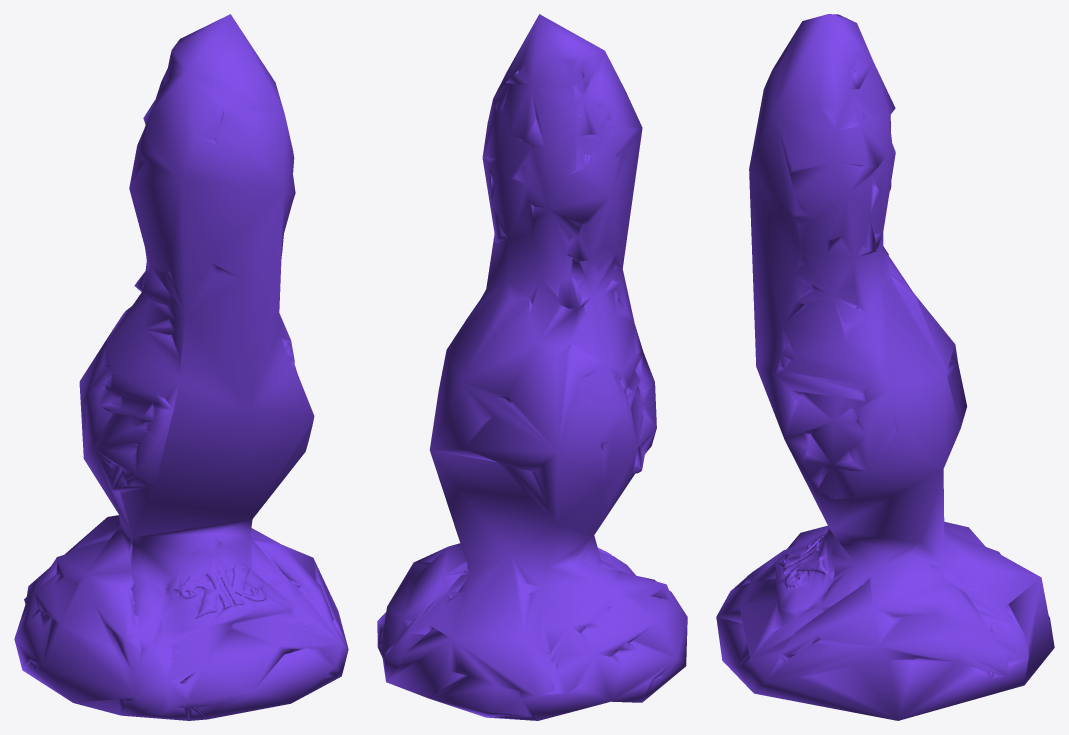
File: small-flat-ar.glb
The picture shows the model from 3 angles, left to right: view 1: azimuth 30°, elevation 25°; view 2: azimuth 150°, elevation 25°; view 3: azimuth 270°, elevation 25°; orthographic projection. The views are drawn at different scales.
Size of the model in its own units: 0.0944 by 0.1946 by 0.0925.
